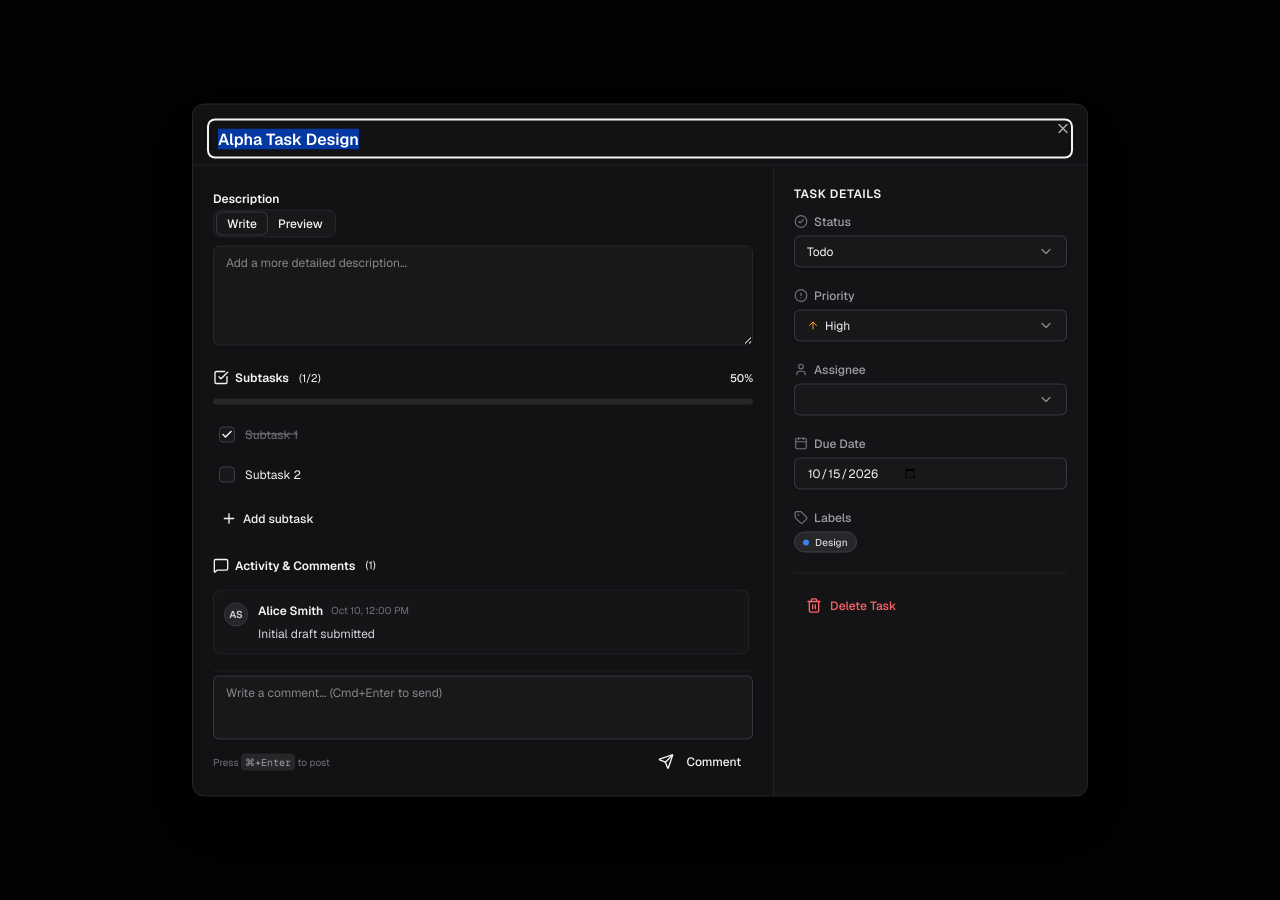
it: Task Multi-View Frontend Components › TaskDetailModal Component › switches description between write textarea and live preview tabs
This screenshot has width=1280, height=900.
Expected: the text box with test id "task-description-textarea" is shown, [213,246,753,346]
Click the tab "Preview" at (300, 224), box [268,212,333,236]
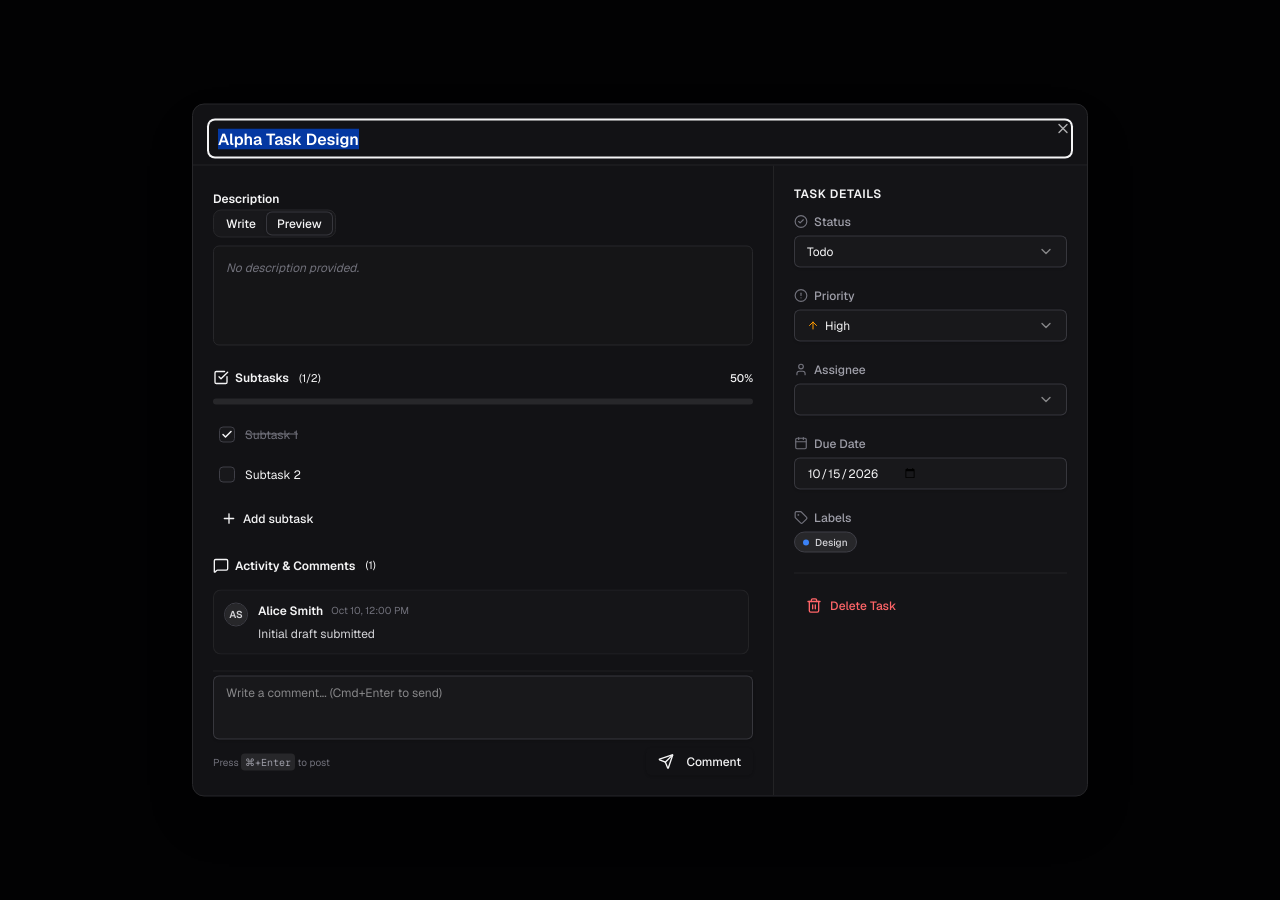
Expected: the element with test id "task-description-preview" is shown, [213,246,753,346]
